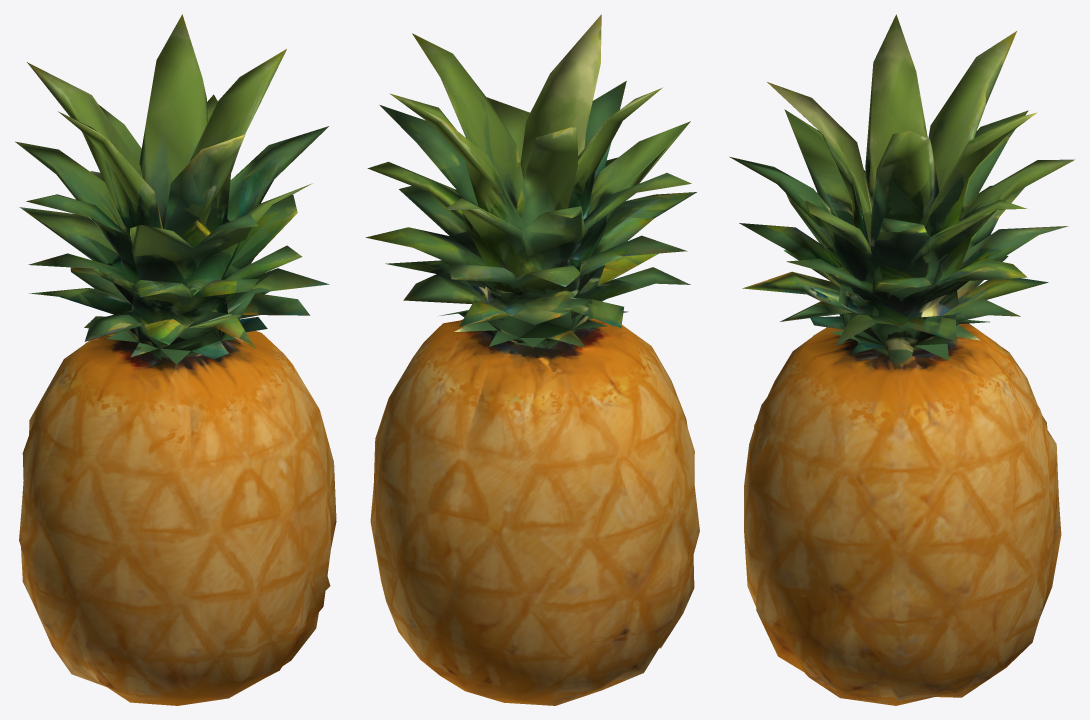
Rendered from pineapple.fbx.
3 renders of one model, left to right at view 1: azimuth 30°, elevation 25°; view 2: azimuth 150°, elevation 25°; view 3: azimuth 270°, elevation 25°, orthographic. The views are drawn at different scales.
Parts seen in each view (by area): view 1: pineapple; view 2: pineapple; view 3: pineapple.
Boxes of the visible parts, x1,y1,x2,y2 form: pineapple: (15, 14, 336, 705); pineapple: (365, 14, 699, 705); pineapple: (729, 14, 1074, 705).
Size of the model in its own units: 11.26 by 21 by 11.04.
